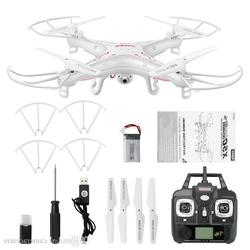drone: (6, 12, 243, 99)
